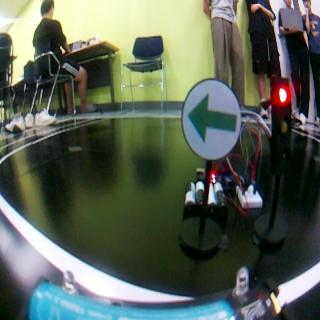left: (184, 80, 238, 160)
red: (271, 76, 294, 249)
